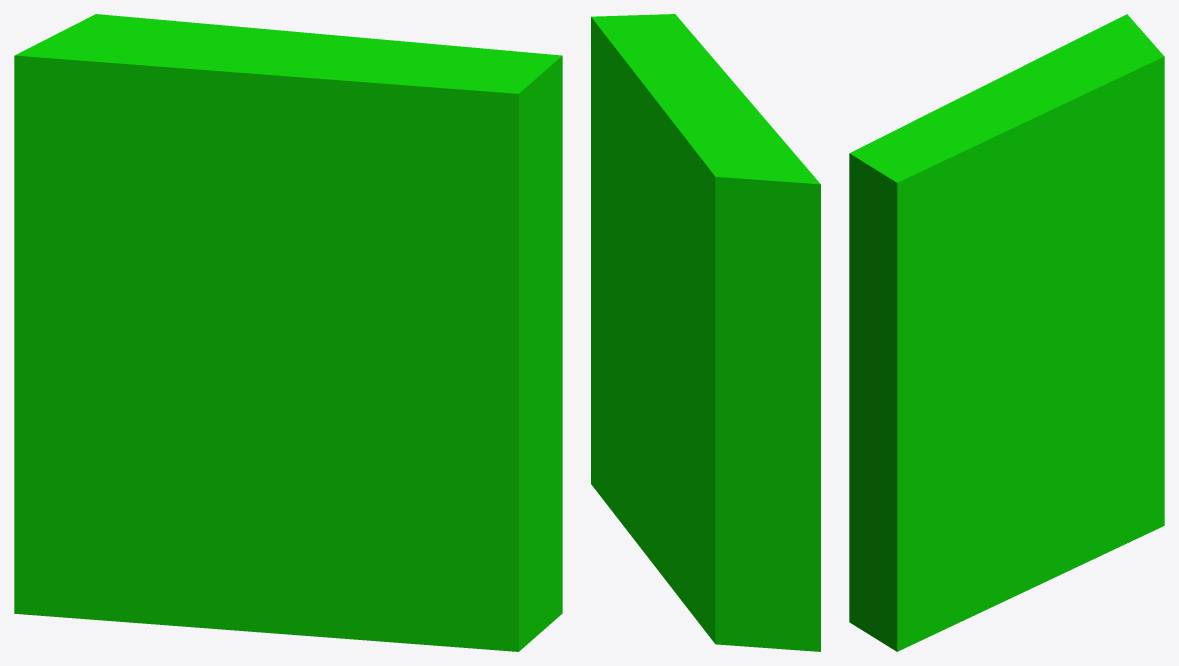
The picture shows the model from 3 angles, left to right: view 1: azimuth 30°, elevation 25°; view 2: azimuth 150°, elevation 25°; view 3: azimuth 270°, elevation 25°; orthographic projection. The views are drawn at different scales.
Visible parts, largest first — view 1: Plane.005; view 2: Plane.005; view 3: Plane.005.
Part boxes in pixels (bbox=[...]): Plane.005: bbox=[14, 14, 562, 651]; Plane.005: bbox=[591, 14, 820, 651]; Plane.005: bbox=[849, 14, 1164, 651].
Size of the model in its own units: 685 by 889 by 541.
